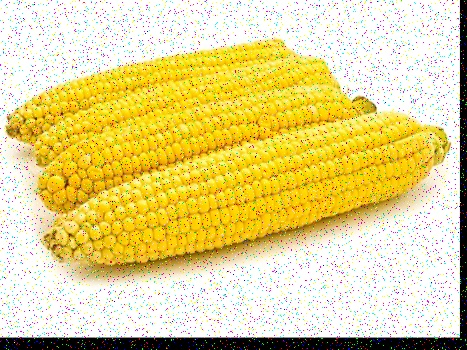corn: (49, 109, 437, 270), (32, 90, 362, 216), (28, 58, 324, 163)
